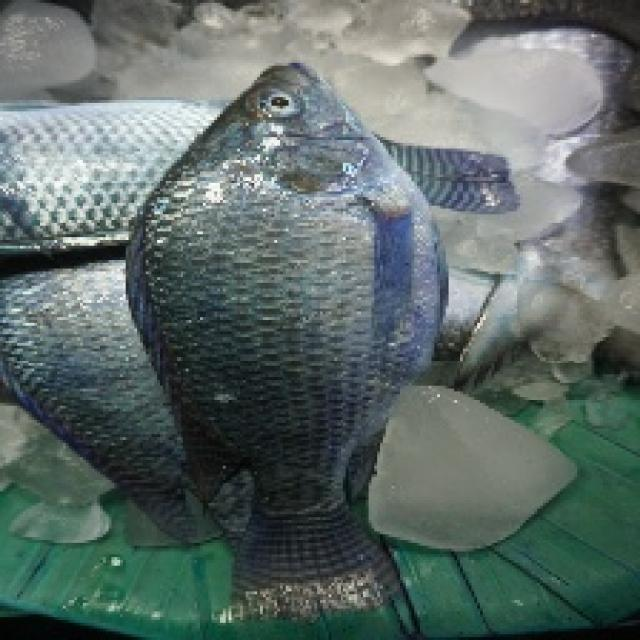Fresh: (126, 68, 455, 640)
